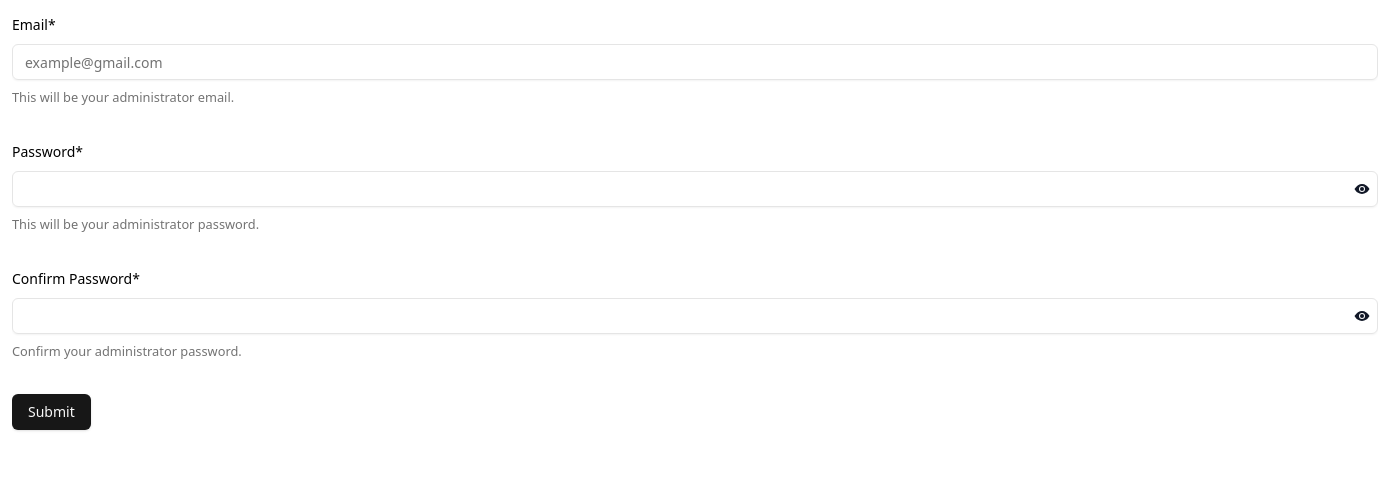
Test: AdminForm › throws error if password is too short
Type "test@example.com" into the field with placeholder "example@gmail.com" at (695, 62), box [12,44,1378,80]
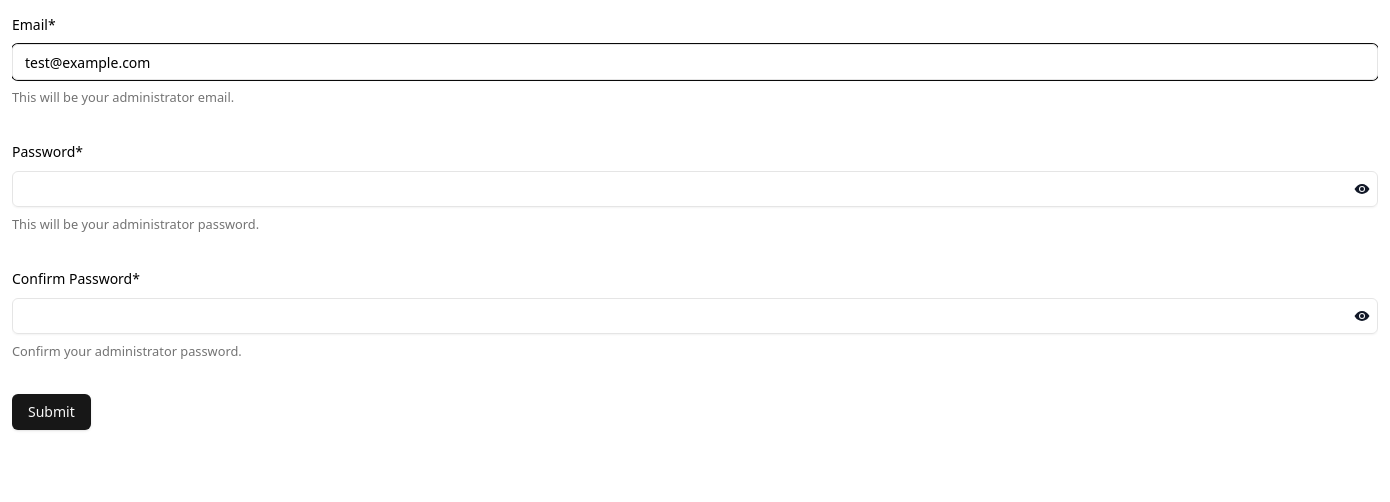
Type "pass" into the password field labelled "Password*" at (695, 189), box [12,171,1378,207]
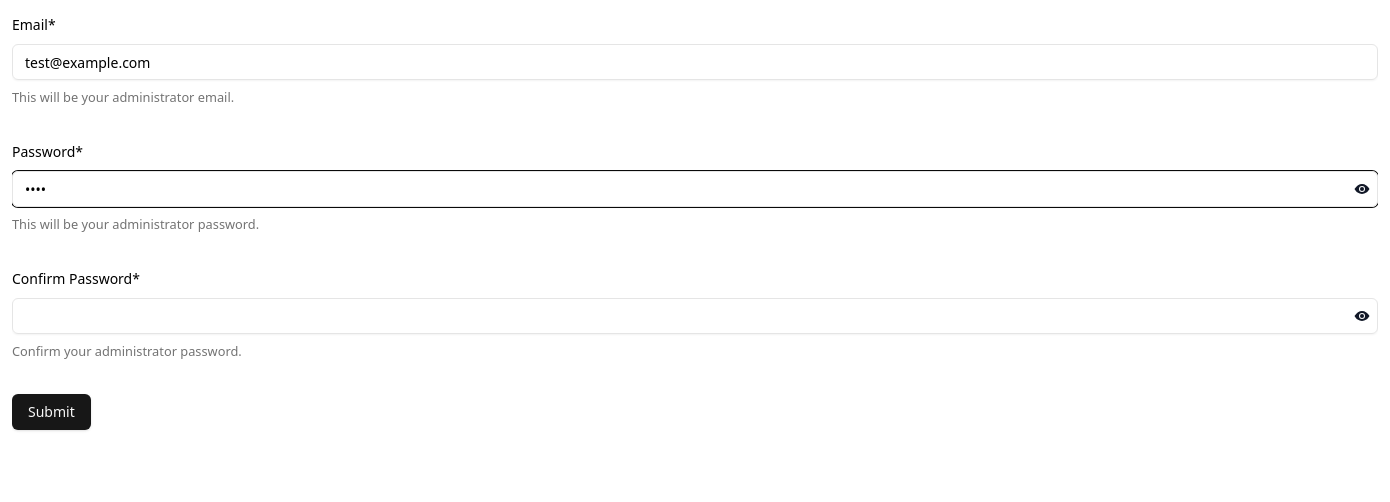
Type "password" into the password field labelled "Confirm Password*" at (695, 316), box [12,298,1378,334]
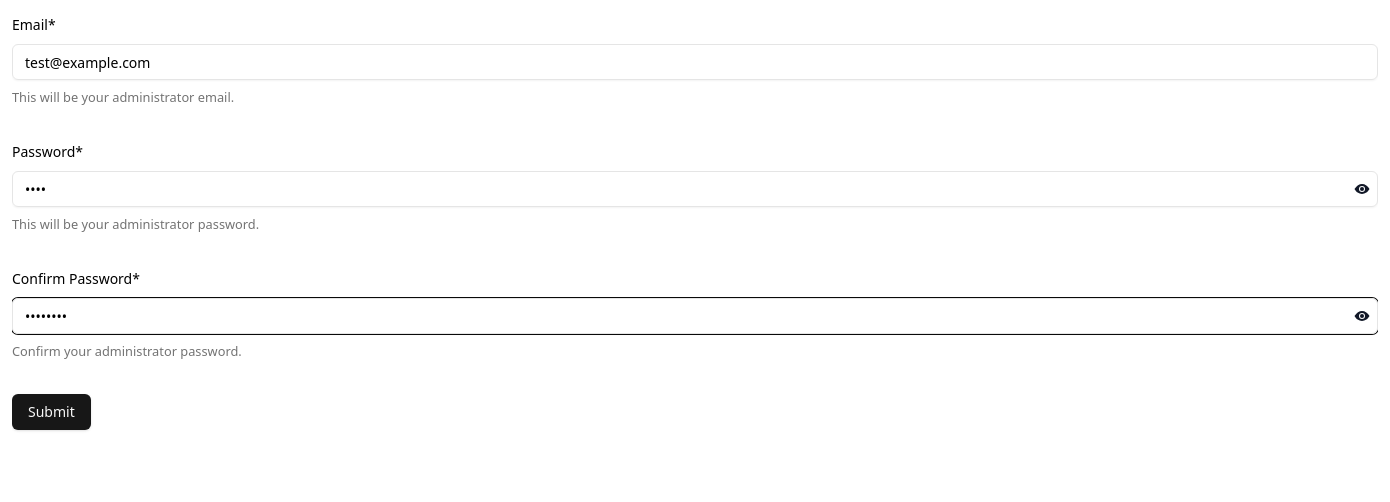
Click the button "Submit" at (51, 412), box [12,394,91,430]
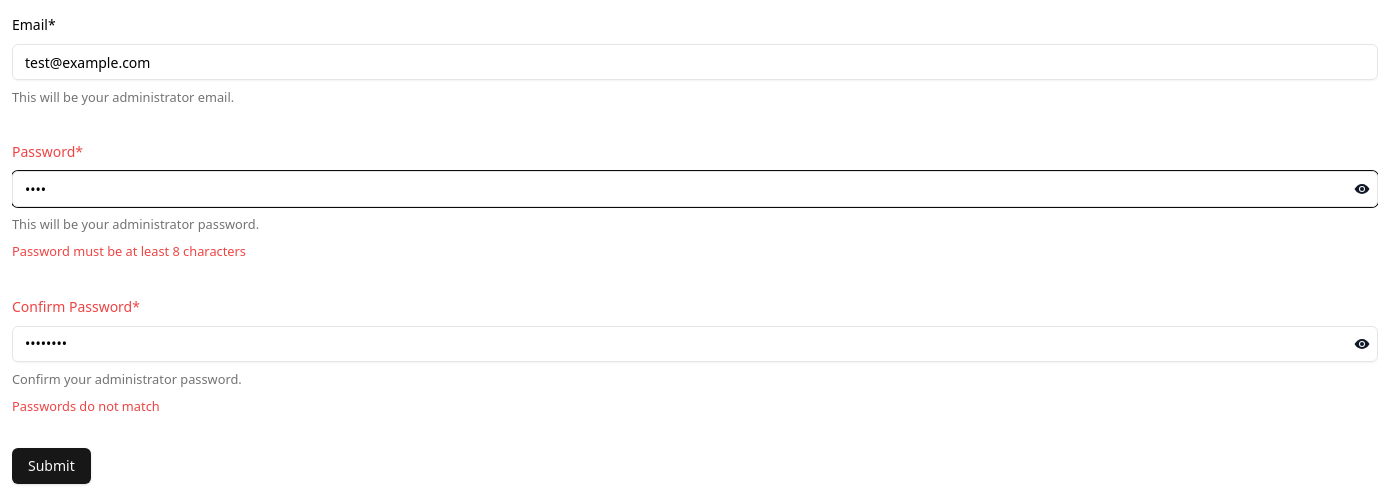
Now the text "Password must be at least 8 characters" is shown, box [12,242,246,260]
